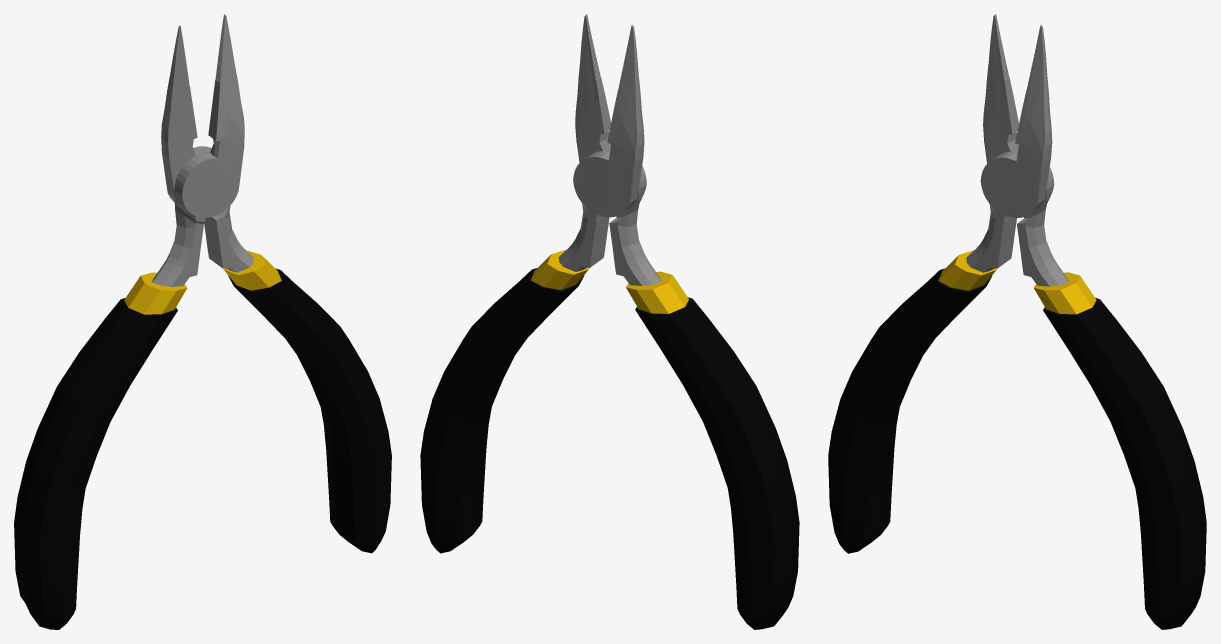
File: Pliers.fbx
3 renders of one model, left to right at view 1: azimuth 30°, elevation 25°; view 2: azimuth 150°, elevation 25°; view 3: azimuth 330°, elevation 25°, orthographic.
Parts seen in each view (by area): view 1: Pliers, PlierPart4, PlierPart1; view 2: Pliers, PlierPart1, PlierPart4, PlierPart2, PlierPart5; view 3: Pliers, PlierPart1.
Boxes of the visible parts, bbox=[...] form: Pliers: bbox=[21, 14, 391, 629]; PlierPart4: bbox=[38, 272, 186, 435]; PlierPart1: bbox=[14, 428, 45, 623]; Pliers: bbox=[420, 14, 799, 624]; PlierPart1: bbox=[716, 436, 791, 629]; PlierPart4: bbox=[626, 272, 767, 455]; PlierPart2: bbox=[573, 152, 609, 213]; PlierPart5: bbox=[597, 160, 631, 217]; Pliers: bbox=[828, 14, 1206, 629]; PlierPart1: bbox=[880, 380, 910, 535].
Size of the model in its own units: 35.61 by 53.04 by 5.42.
